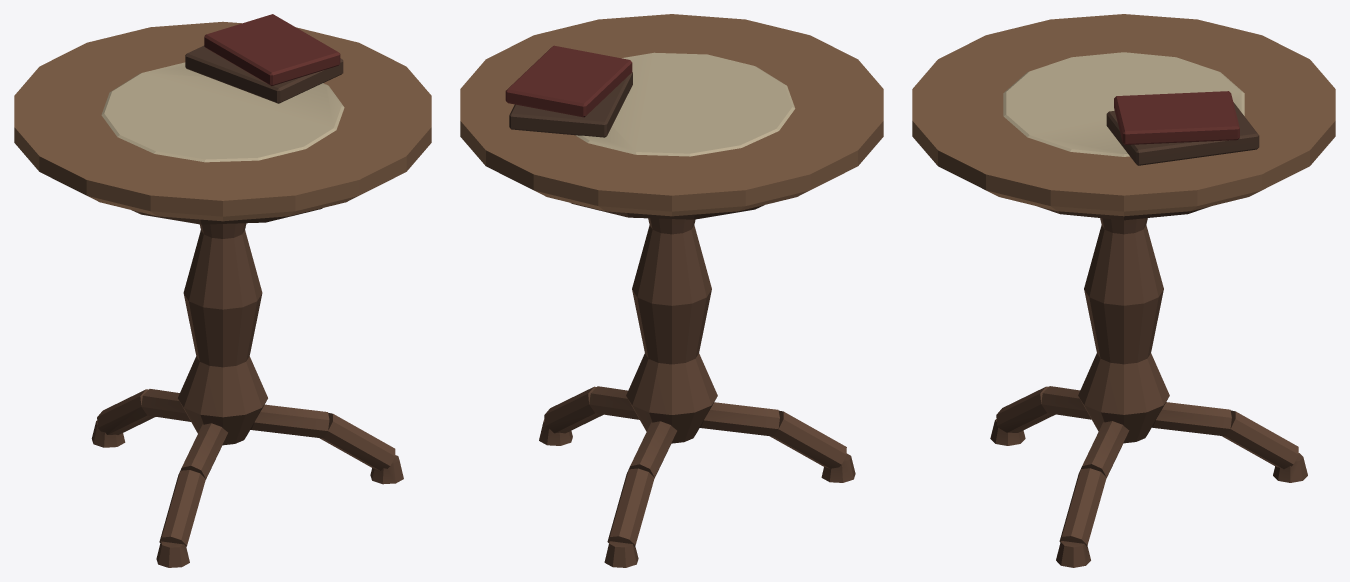
Rendered from hargrove_parlor_table.glb.
The picture shows the model from 3 angles, left to right: view 1: azimuth 30°, elevation 25°; view 2: azimuth 150°, elevation 25°; view 3: azimuth 270°, elevation 25°; orthographic projection.
Visible parts, largest first — view 1: hargrove_parlor_table; view 2: hargrove_parlor_table; view 3: hargrove_parlor_table.
Part boxes in pixels (<box>): hargrove_parlor_table: <box>14,14,431,567</box>; hargrove_parlor_table: <box>460,14,883,567</box>; hargrove_parlor_table: <box>912,14,1335,567</box>.
Size of the model in its own units: 0.73 by 0.783 by 0.7189.
